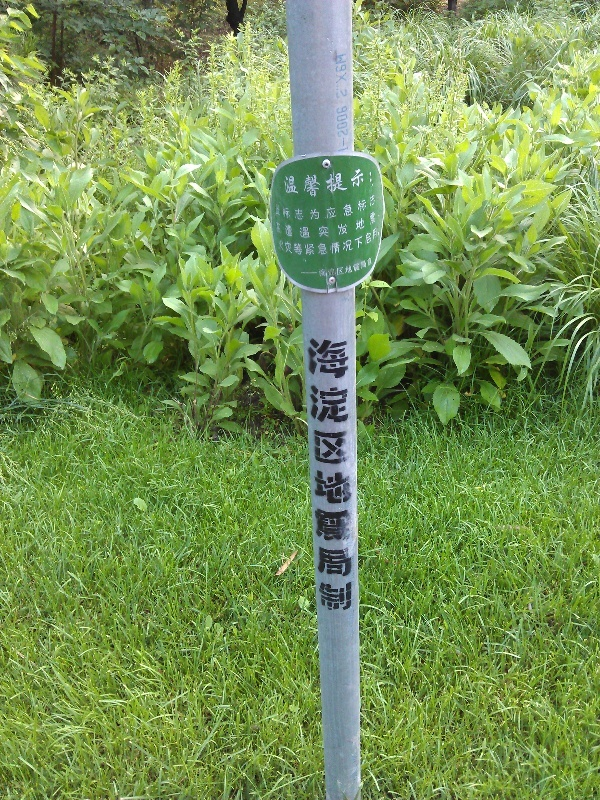text: (305, 335, 320, 613), (321, 335, 336, 613), (337, 335, 352, 613), (353, 335, 356, 613), (337, 106, 350, 152), (289, 226, 304, 262), (305, 226, 320, 262), (321, 226, 336, 262), (337, 226, 352, 262), (353, 226, 368, 262), (337, 51, 348, 99), (369, 226, 383, 262), (289, 167, 304, 200), (305, 167, 320, 200), (321, 167, 336, 200), (337, 167, 352, 200), (353, 167, 368, 200), (289, 193, 304, 225), (305, 193, 320, 225), (321, 193, 336, 225), (337, 193, 352, 225), (353, 193, 368, 225), (289, 211, 304, 243), (305, 211, 320, 243), (321, 211, 336, 243), (337, 211, 352, 243), (353, 211, 368, 243), (274, 193, 288, 225), (369, 211, 383, 243), (305, 256, 320, 284), (321, 256, 336, 284), (337, 256, 352, 284), (353, 256, 368, 284), (275, 211, 288, 243), (277, 226, 288, 262), (369, 193, 381, 225), (369, 167, 375, 200), (369, 256, 375, 284), (283, 167, 288, 200), (334, 51, 336, 99), (301, 256, 304, 284), (335, 106, 336, 152)
